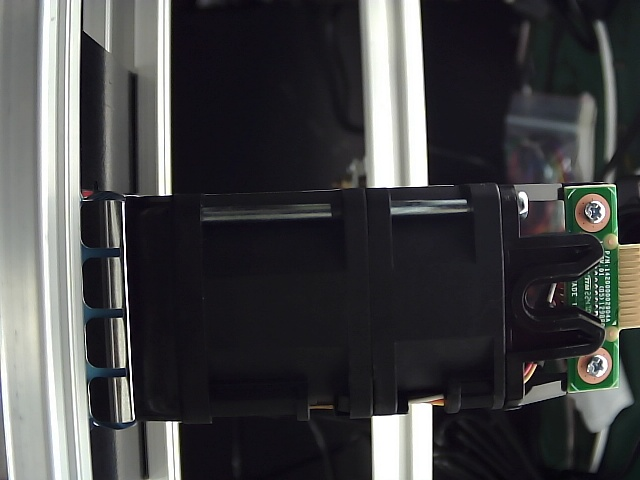4_0: (74, 155, 640, 435)
